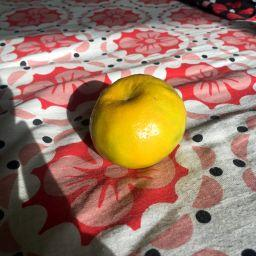Ripe: (90, 74, 187, 165)
